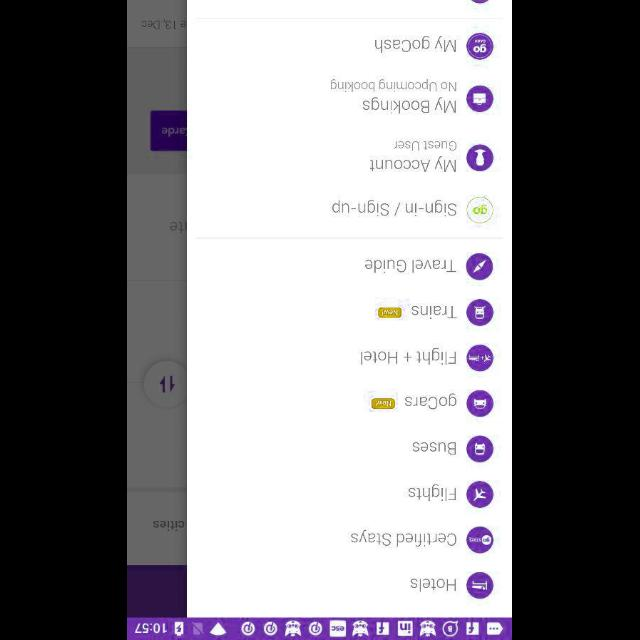icon: (468, 144, 494, 172)
image: (466, 32, 494, 60), (466, 196, 494, 224), (466, 252, 494, 280), (466, 298, 494, 326), (468, 389, 494, 417), (466, 86, 494, 112), (468, 344, 494, 372), (468, 434, 494, 462), (468, 480, 494, 508), (468, 526, 494, 552), (468, 572, 494, 598)
panel: (188, 0, 512, 616)
text: (332, 198, 458, 218), (351, 529, 457, 547), (330, 79, 458, 93), (360, 347, 456, 365), (363, 96, 457, 114), (375, 36, 457, 54), (365, 258, 457, 274), (369, 156, 456, 172), (405, 392, 457, 410), (408, 484, 456, 501), (393, 140, 457, 152), (412, 305, 458, 319), (410, 578, 456, 592), (413, 441, 457, 455)
textbutton: (379, 308, 403, 318), (372, 398, 396, 408)
uppertaskbar: (128, 617, 512, 639)
